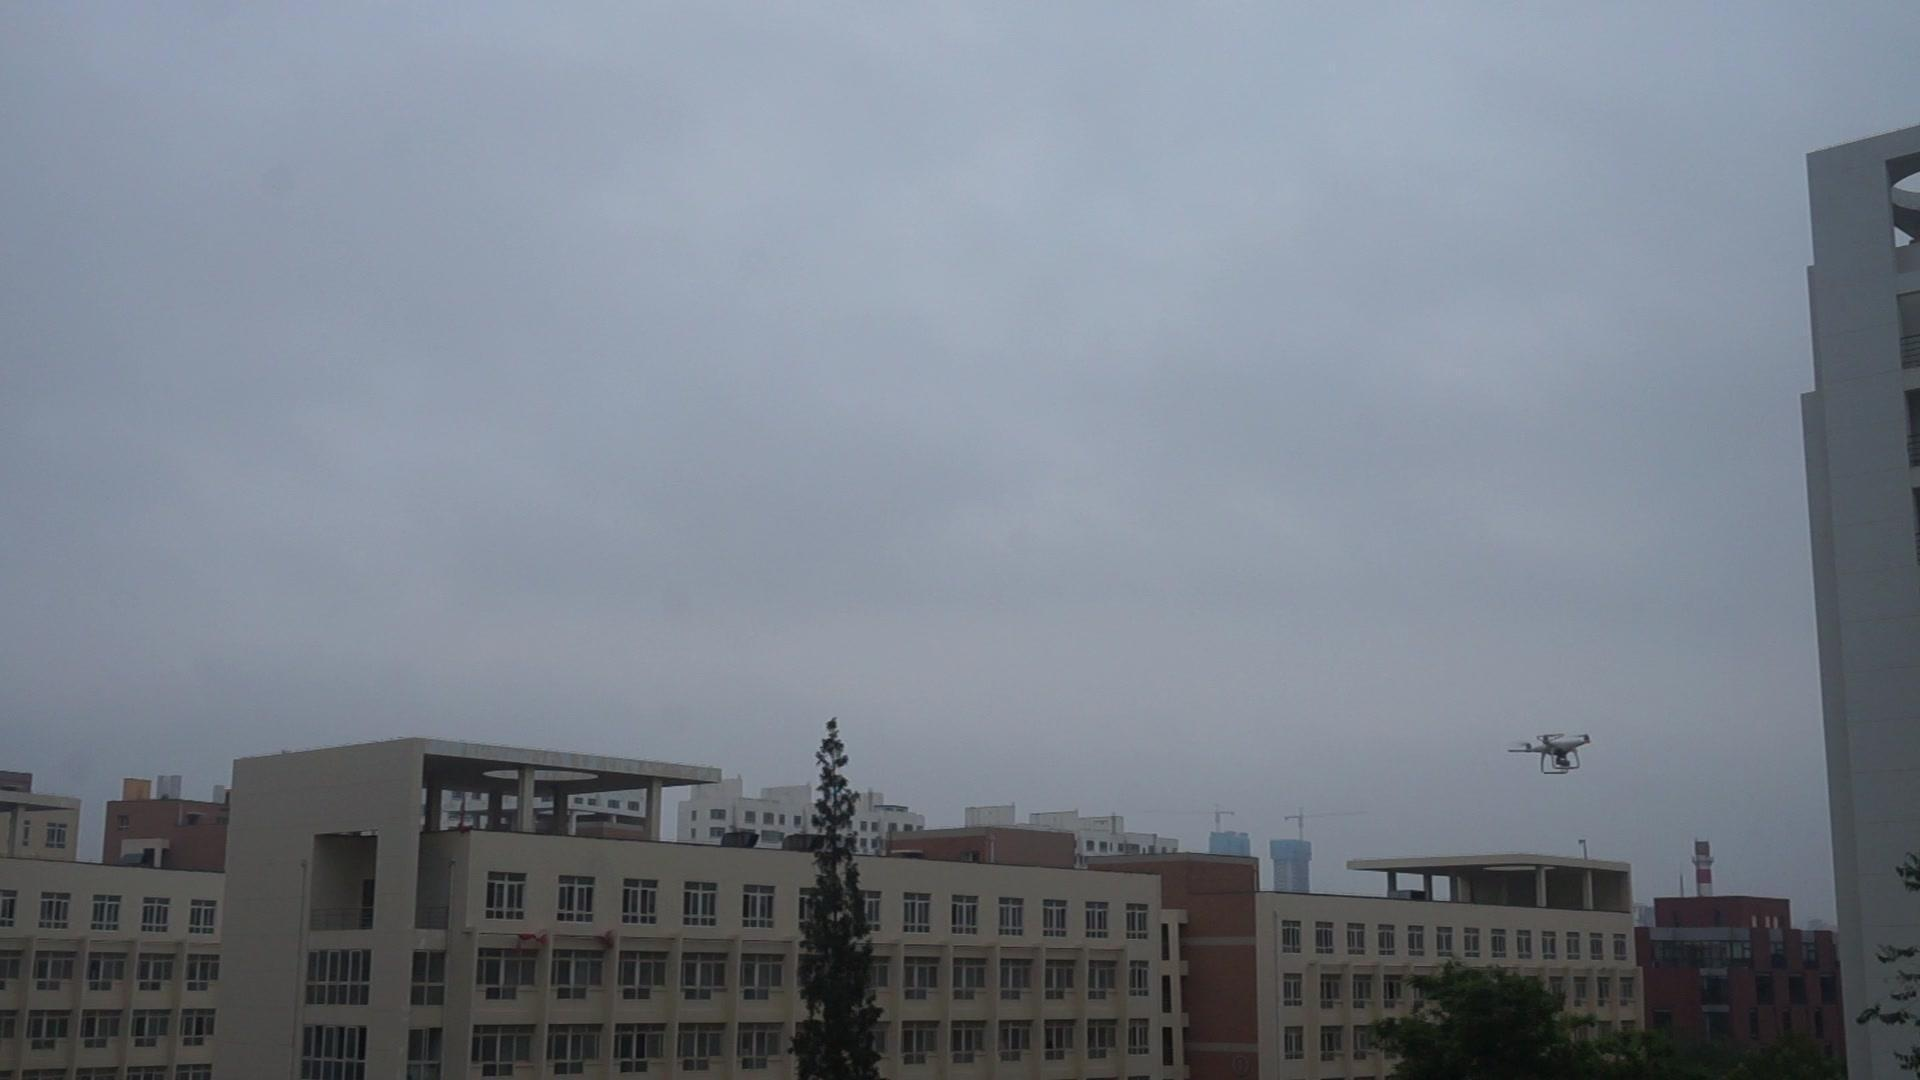UAV: (1509, 735, 1592, 775)
